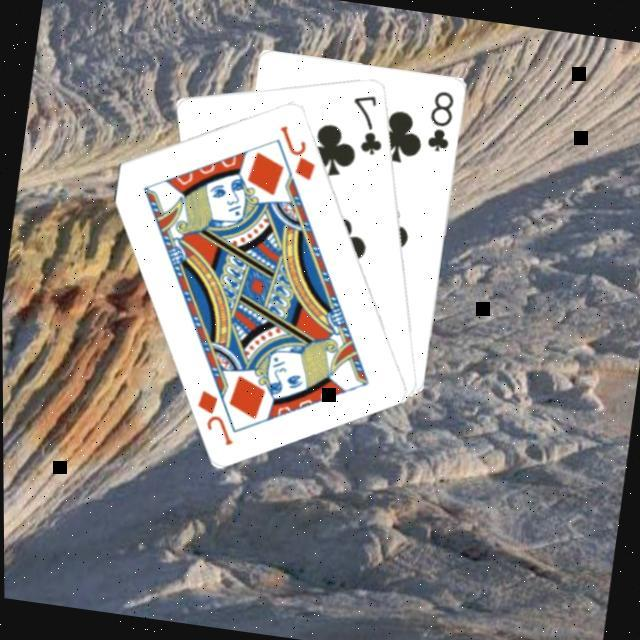7C: (344, 87, 393, 158)
8C: (423, 84, 460, 154)
JD: (188, 383, 244, 448), (270, 119, 326, 182)
